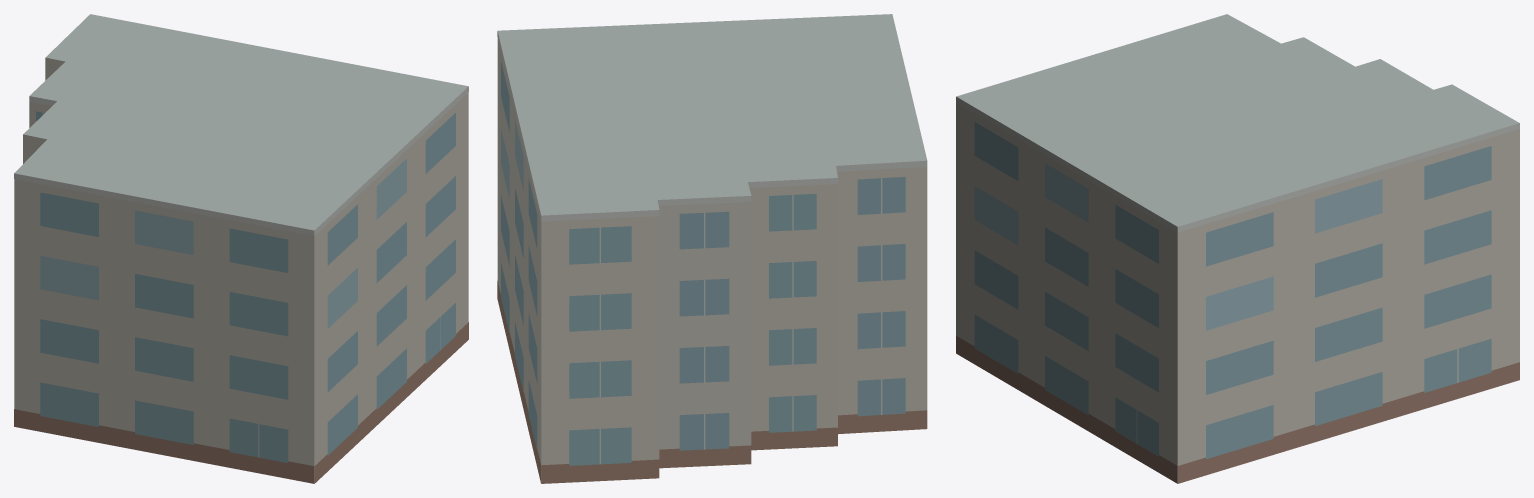
The model's file is survey-upis-32972566.glb.
3 renders of one model, left to right at view 1: azimuth 30°, elevation 25°; view 2: azimuth 150°, elevation 25°; view 3: azimuth 270°, elevation 25°, orthographic. The views are drawn at different scales.
Visible parts, largest first — view 1: survey-upis-32972566.tmp; view 2: survey-upis-32972566.tmp; view 3: survey-upis-32972566.tmp.
Part boxes in pixels (bbox=[...]): survey-upis-32972566.tmp: bbox=[14, 14, 468, 483]; survey-upis-32972566.tmp: bbox=[497, 14, 927, 483]; survey-upis-32972566.tmp: bbox=[956, 14, 1519, 483].
Bounding box in the file's own units: 19.2 × 10.8 × 21.48.
